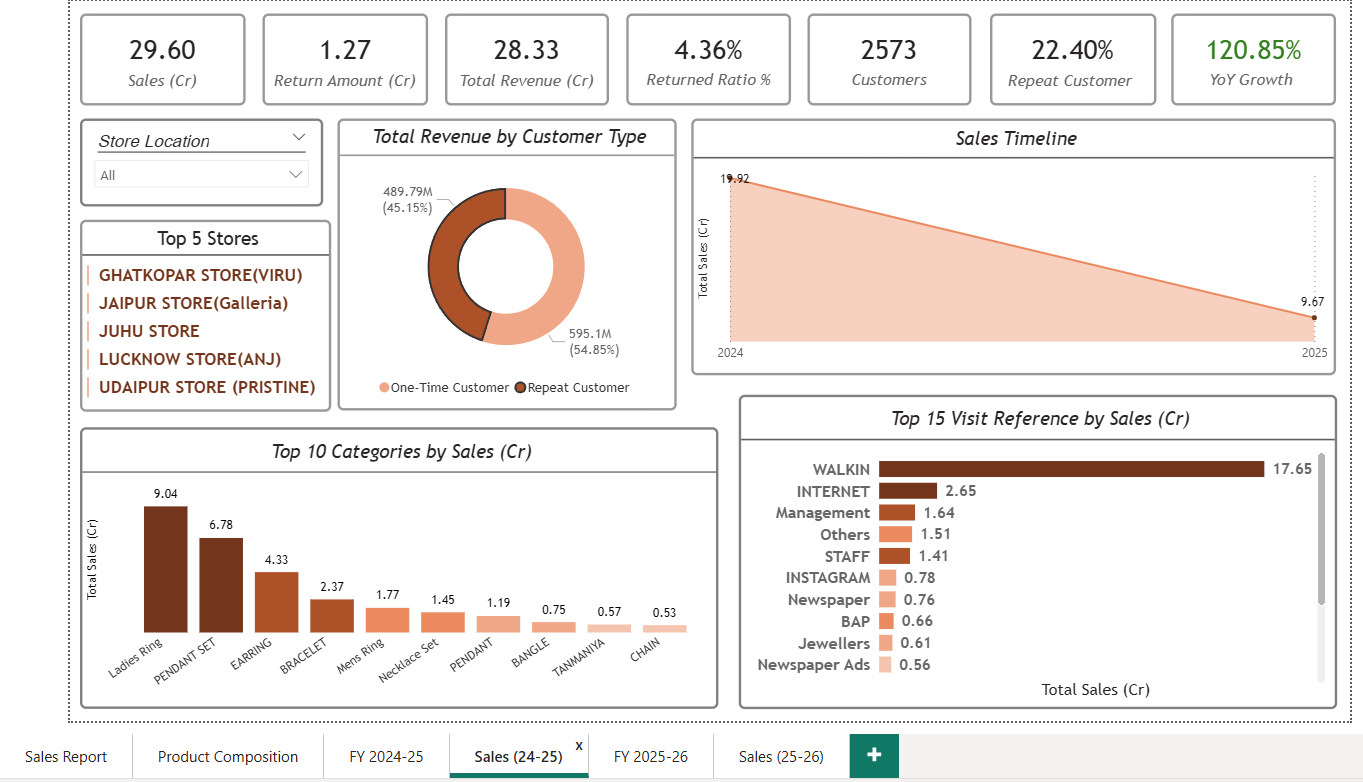

The dashboard page shown, as its layout file describes it:
{"tool":"powerbi","page":{"name":"Sales (24-25)","canvas":[1280,720],"ordinal":3},"visuals":[{"type":"card","fields":{"Values":["Table1.Scaled Total Revenue"]},"box":[9.8,12.1,165.6,91.8],"z":0,"group":"g1"},{"type":"slicer","fields":{"Values":["Table1.Location"]},"box":[9.6,118,242.9,87.8],"z":0},{"type":"card","fields":{"Values":["Count(Table1.Customer)"]},"box":[737.8,12,163.9,91.7],"z":1000,"group":"g1"},{"type":"barChart","title":"Top 15 Visit Reference by Sales (Cr)","fields":{"Category":["Table1.CustVisitRef"],"Y":["Table1.Scaled Total Revenue"]},"box":[668.3,393.8,598.3,314.2],"z":1000},{"type":"card","fields":{"Values":["Customer_Summary.repeat customer %"]},"box":[920,12,166,92],"z":2000,"group":"g1"},{"type":"lineChart","title":"Sales Timeline","fields":{"Category":["Date Table.Date.Variation.Date Hierarchy.Year","Date Table.Date.Variation.Date Hierarchy.Quarter","Date Table.Date.Variation.Date Hierarchy.Month","Date Table.Date.Variation.Date Hierarchy.Day"],"Y":["Table1.Scaled Total Revenue"]},"box":[621.6,118,644.9,256.6],"z":2000},{"type":"card","fields":{"Values":["Table1.YoY Growth %"]},"box":[1100.6,12,165.1,91.7],"z":3000,"group":"g1"},{"type":"donutChart","fields":{"Category":["Customer_Summary.Customer Type"],"Y":["Sum(Customer_Summary.TotalRevenue)"]},"box":[267.6,118,338.9,292.3],"z":3000},{"type":"card","fields":{"Values":["Sales.Scaled Return amount"]},"box":[192.3,12.1,165.6,91.8],"z":4000,"group":"g1"},{"type":"columnChart","title":"Top 10 Categories by Sales (Cr)","fields":{"Category":["Table1.Category"],"Y":["Table1.Scaled Total Revenue"]},"box":[9.8,426.8,638.3,281.3],"z":4000},{"type":"card","fields":{"Values":["Sales.Total Revenue"]},"box":[374.8,12.1,164.2,91.8],"z":5000,"group":"g1"},{"type":"card","fields":{"Values":["Sales.Returned Ratio %"]},"box":[555.8,12,165.1,91.7],"z":6000,"group":"g1"},{"type":"multiRowCard","title":"Top 5 Stores ","fields":{"Values":["Sales.Location"]},"box":[9.6,218.2,251.1,192.1],"z":6000},{"type":"group","id":"g1","title":"Group 1","box":[9.8,12,1255.9,92],"z":7000}]}

Visuals, with their boxes on the page's 1280x720 design canvas (x1, y1, x2, y2). These are canvas units, not pixel positions in the 1363x782 screenshot, which may show the page scaled, cropped or inside an application window:
card - Table1.Scaled Total Revenue: {"x1": 10, "y1": 12, "x2": 175, "y2": 104}
slicer - Table1.Location: {"x1": 10, "y1": 118, "x2": 252, "y2": 206}
card - Count(Table1.Customer): {"x1": 738, "y1": 12, "x2": 902, "y2": 104}
"Top 15 Visit Reference by Sales (Cr)" barChart: {"x1": 668, "y1": 394, "x2": 1267, "y2": 708}
card - Customer_Summary.repeat customer %: {"x1": 920, "y1": 12, "x2": 1086, "y2": 104}
"Sales Timeline" lineChart: {"x1": 622, "y1": 118, "x2": 1266, "y2": 375}
card - Table1.YoY Growth %: {"x1": 1101, "y1": 12, "x2": 1266, "y2": 104}
donutChart - Customer_Summary.Customer Type x Sum(Customer_Summary.TotalRevenue): {"x1": 268, "y1": 118, "x2": 606, "y2": 410}
card - Sales.Scaled Return amount: {"x1": 192, "y1": 12, "x2": 358, "y2": 104}
"Top 10 Categories by Sales (Cr)" columnChart: {"x1": 10, "y1": 427, "x2": 648, "y2": 708}
card - Sales.Total Revenue: {"x1": 375, "y1": 12, "x2": 539, "y2": 104}
card - Sales.Returned Ratio %: {"x1": 556, "y1": 12, "x2": 721, "y2": 104}
"Top 5 Stores " multiRowCard: {"x1": 10, "y1": 218, "x2": 261, "y2": 410}
"Group 1" group: {"x1": 10, "y1": 12, "x2": 1266, "y2": 104}
